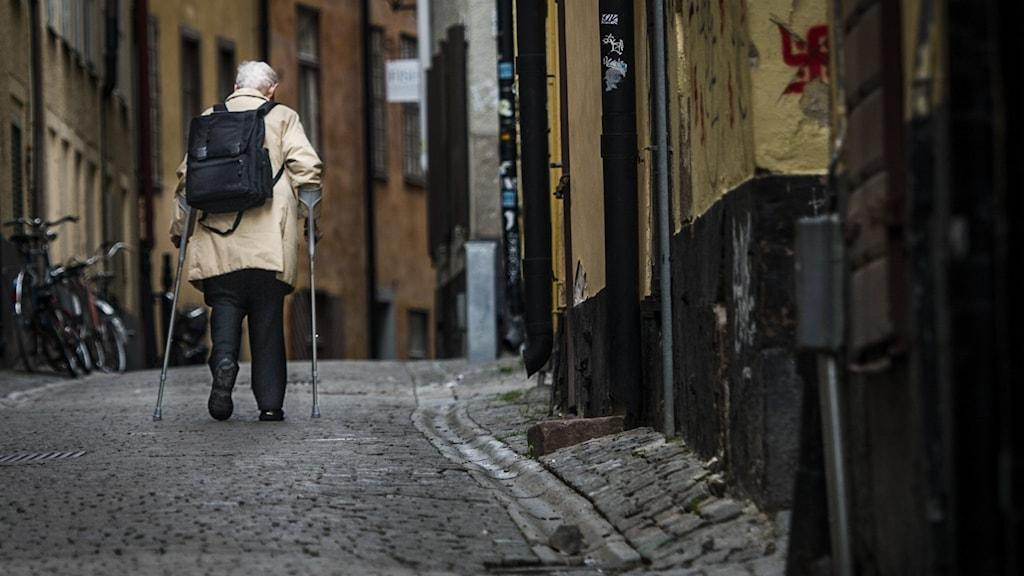crutches: (153, 60, 321, 421)
